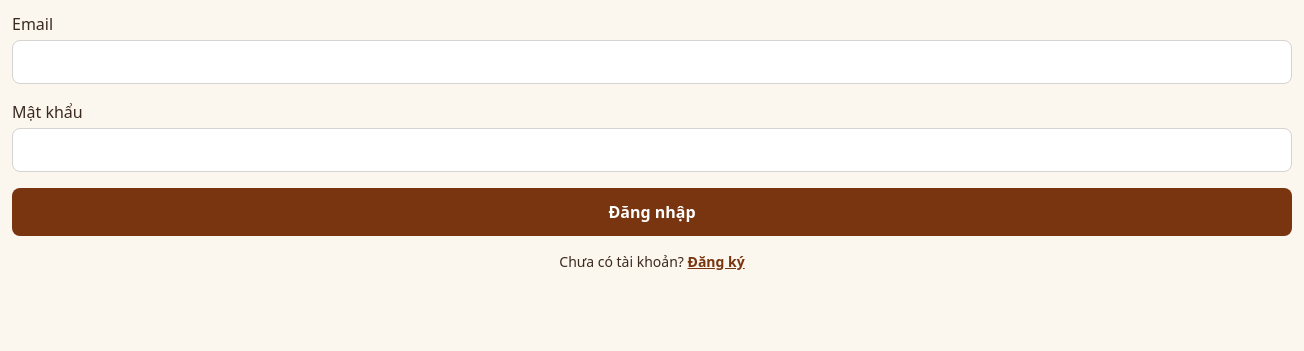
Test: Màn đăng nhập (CT-46 – CT-48) › CT-48: sai mật khẩu thì hiện "Email hoặc mật khẩu không đúng", ở lại trang
Type "khach@brewlite.vn" into the field labelled "Email" at (652, 62), box [12,40,1292,84]
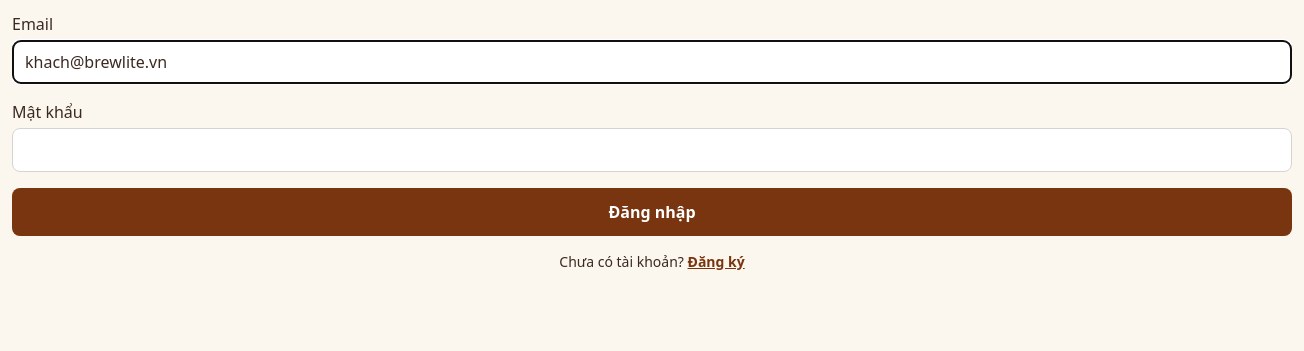
Type "sai-mat-khau" into the password field labelled "Mật khẩu" at (652, 150), box [12,128,1292,172]
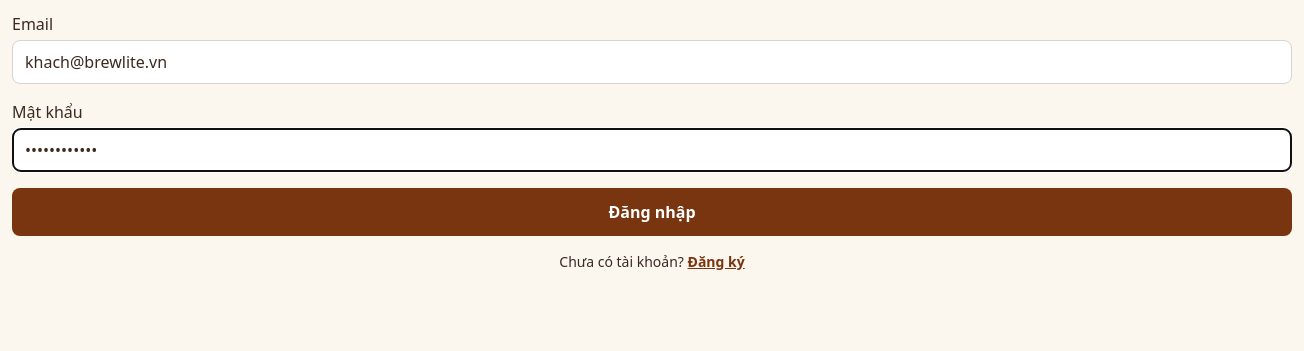
Click the button "Đăng nhập" at (652, 212), box [12,188,1292,236]
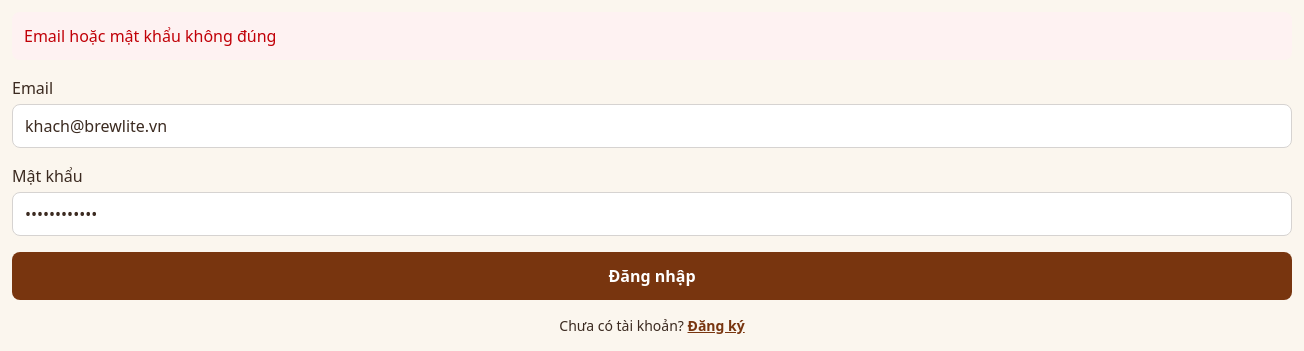
expect the button "Đăng nhập" is enabled: met, box [12,252,1292,300]
expect the message reads "Email hoặc mật khẩu không đúng": met, box [24,25,276,47]
